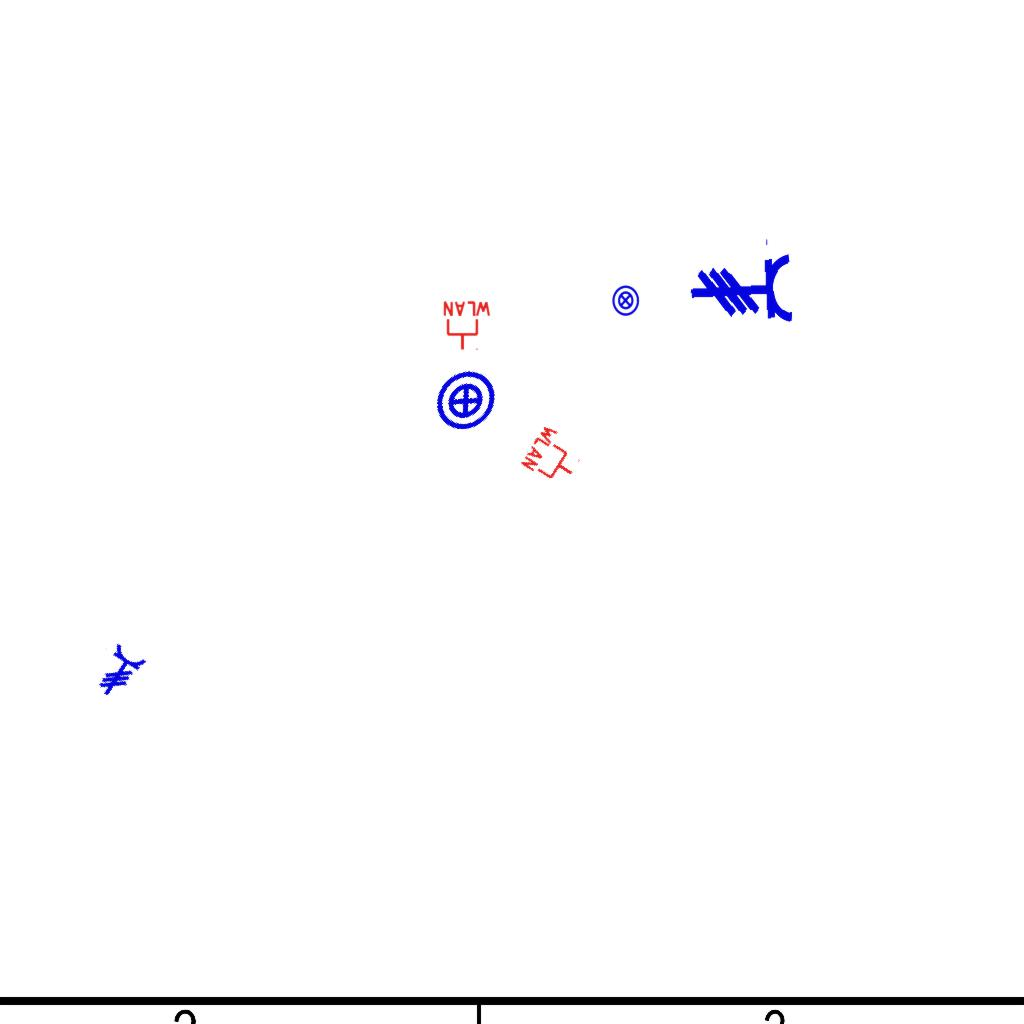CEE_Drehstrom_Steckdose_16_32_A: (686, 234, 796, 330), (82, 637, 149, 705)
Taster_beleuchtet: (419, 354, 513, 448), (609, 284, 642, 317)
WLAN: (518, 421, 590, 493), (441, 300, 493, 352)
